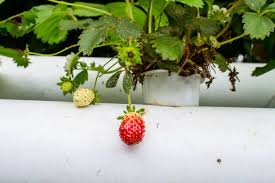ripe: (119, 107, 147, 147)
unripe: (72, 87, 97, 109), (59, 76, 74, 94)
